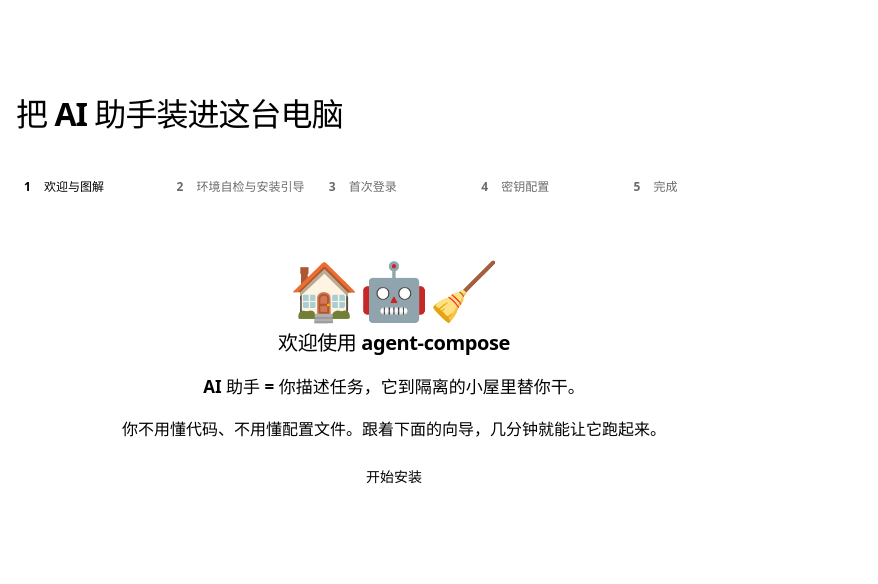
Scenario: SetupShell › 第 0 步展示欢迎内容，「开始安装」进入下一步
The width and height of the screenshot is (878, 584).
Expected: the heading "欢迎使用 agent-compose" is shown, top-left (278, 329), bottom-right (510, 356)
Click the button "开始安装": (394, 477) top-left (352, 459), bottom-right (436, 495)
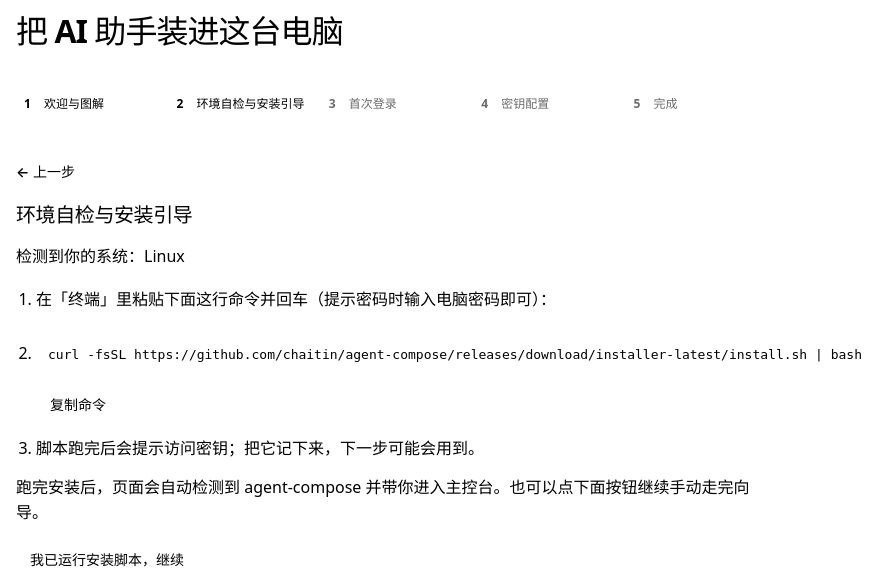
Expected: the heading "环境自检与安装引导" is shown, top-left (16, 201), bottom-right (192, 228)
